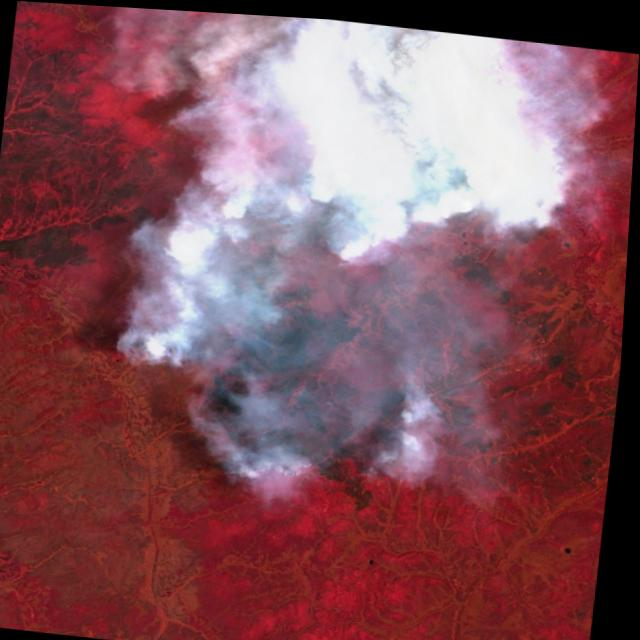fire: (131, 107, 544, 513)
